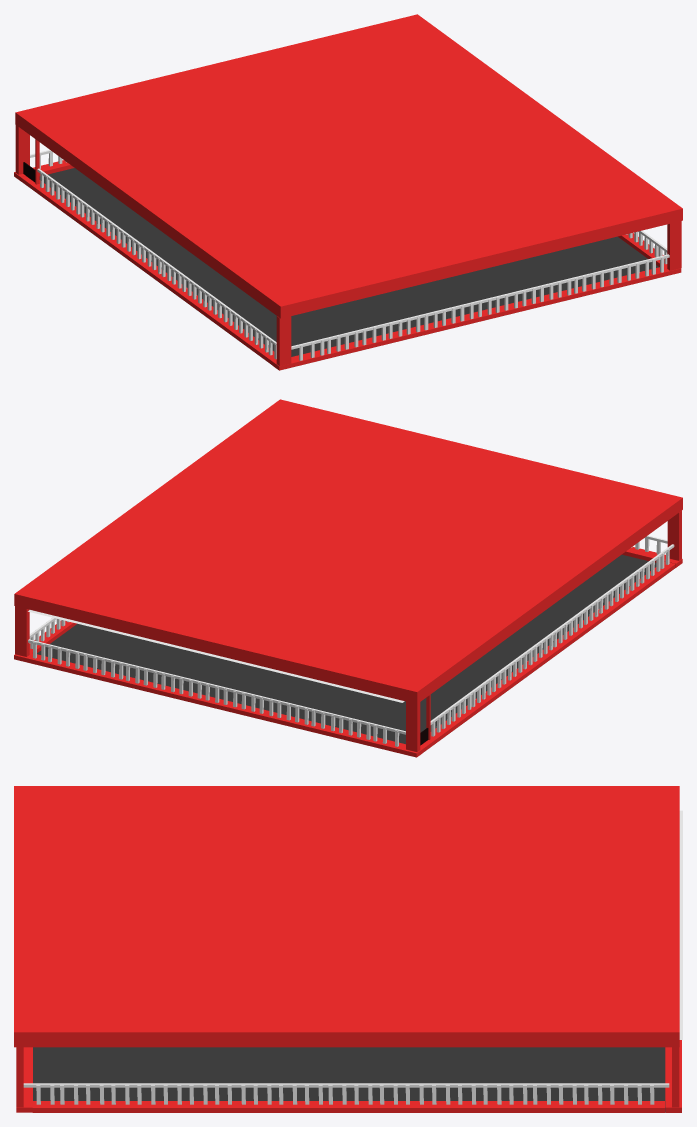
The model's file is arena.FBX.
3 views of the same model, one above another, from view 1: azimuth 30°, elevation 25°; view 2: azimuth 150°, elevation 25°; view 3: azimuth 270°, elevation 25° (orthographic). The views are drawn at different scales.
Visible parts, largest first — view 1: estrutura, chao, grade; view 2: estrutura, chao, grade; view 3: estrutura, chao, grade.
Boxes of the visible parts, box(x1,y1,x2,y2) form: estrutura: box(14, 14, 682, 370); chao: box(39, 168, 658, 356); grade: box(30, 150, 669, 365); estrutura: box(14, 399, 682, 757); chao: box(37, 554, 674, 751); grade: box(28, 510, 681, 746); estrutura: box(14, 786, 682, 1112); chao: box(33, 1047, 665, 1112); grade: box(23, 1083, 669, 1112).
Size of the model in its own units: 1380 by 211 by 1582.
